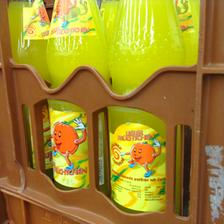Soda: (107, 0, 184, 216), (42, 1, 114, 190), (7, 0, 47, 172)
